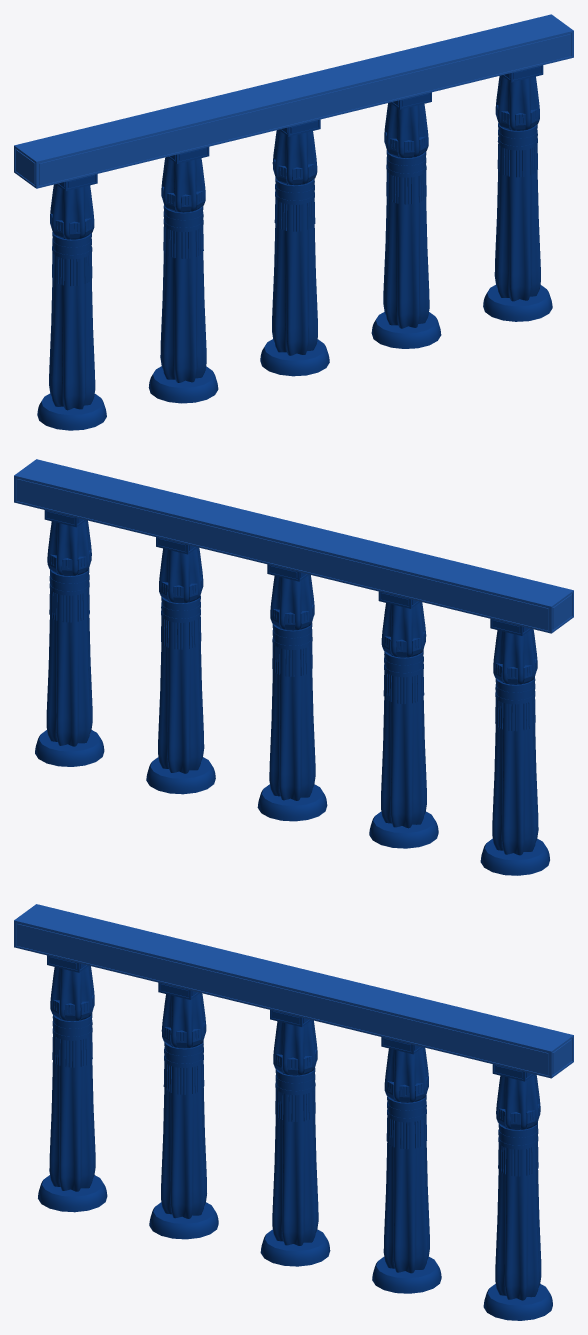
The model's file is EGYPT 0235.obj.
3 renders of one model, top to bottom at view 1: azimuth 30°, elevation 25°; view 2: azimuth 150°, elevation 25°; view 3: azimuth 330°, elevation 25°, orthographic.
Parts seen in each view (by area): view 1: Box06, Line006, Line008, Line03, Line009, Line007; view 2: Box06, Line007, Line03, Line009, Line006, Line008; view 3: Box06, Line009, Line007, Line03, Line008, Line006.
Boxes of the visible parts, <box> form: Box06: <box>14,14,573,188</box>; Line006: <box>148,147,218,403</box>; Line008: <box>371,92,441,348</box>; Line03: <box>37,174,106,430</box>; Line009: <box>483,65,552,321</box>; Line007: <box>260,119,329,376</box>; Box06: <box>14,459,573,633</box>; Line007: <box>257,564,327,821</box>; Line03: <box>480,619,549,875</box>; Line009: <box>35,510,104,766</box>; Line006: <box>369,591,438,848</box>; Line008: <box>146,537,215,794</box>; Box06: <box>14,904,573,1078</box>; Line009: <box>483,1064,552,1320</box>; Line007: <box>260,1010,330,1266</box>; Line03: <box>38,955,107,1212</box>; Line008: <box>372,1037,441,1293</box>; Line006: <box>149,982,218,1239</box>.
Bounding box in the file's own units: 1962 × 956 × 216.
